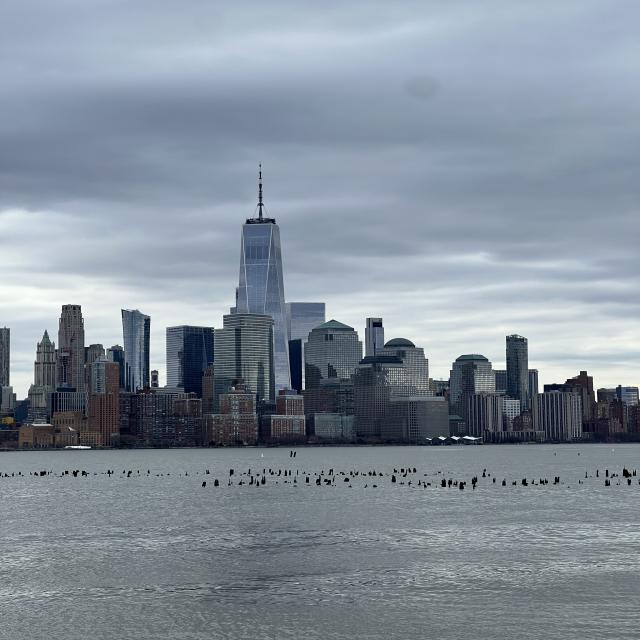WTC: (238, 163, 286, 316)
